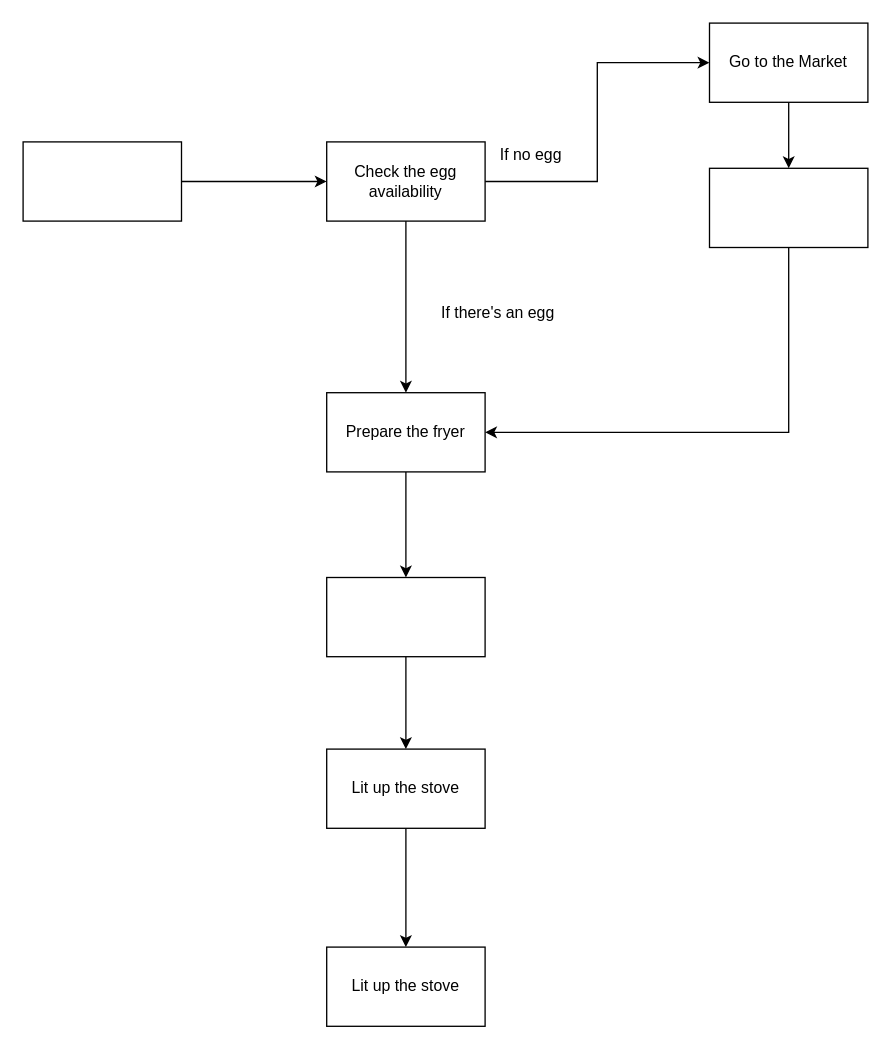
Image size: 891x1049. Some labels were removed from this diagram. Here are the shapes that lost their labels. From the top down, the centre of each, then its label:
the point at 102,181: Go to kitchen
the point at 788,207: Buy the egg
the point at 405,616: Pour the oil
